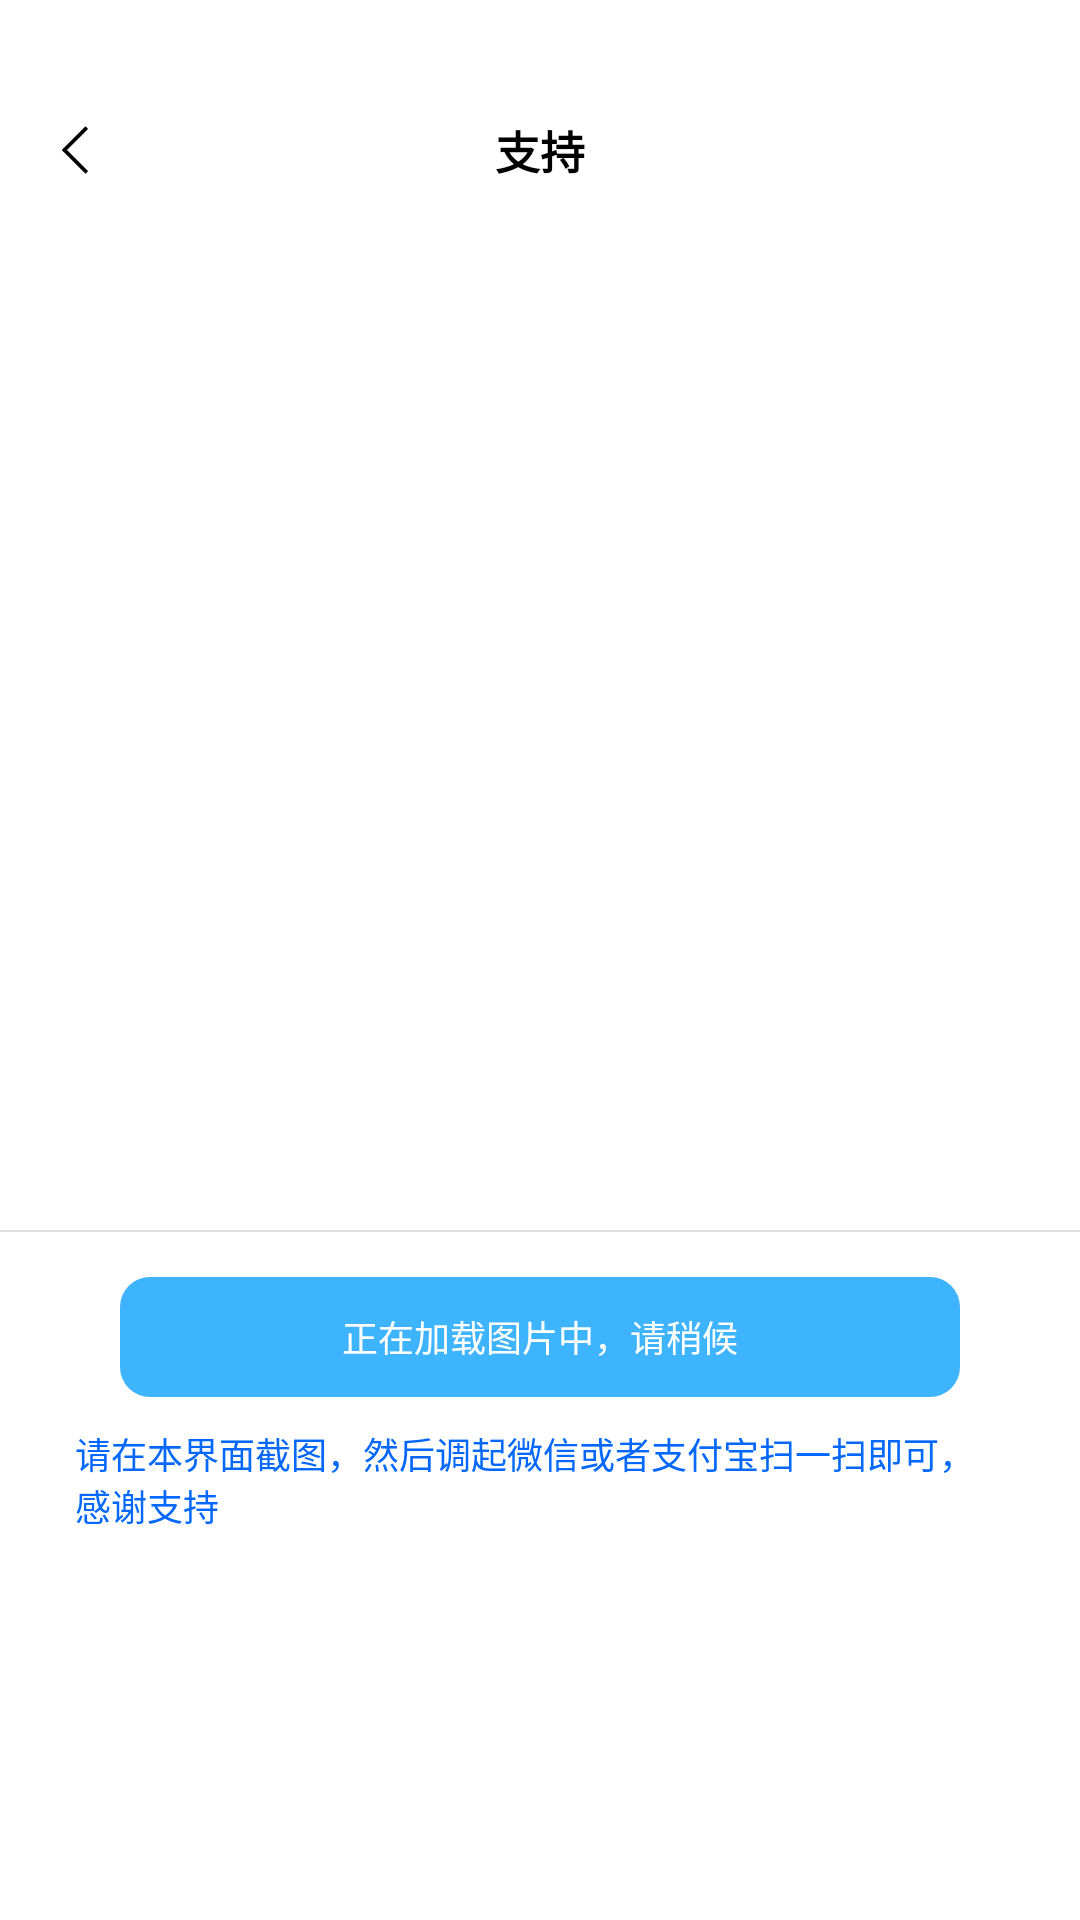

Named icons in this screenshot (1080*1920) and their bounding boxes, (x1, y1, x2, y2):
left: (62, 126, 88, 174)
